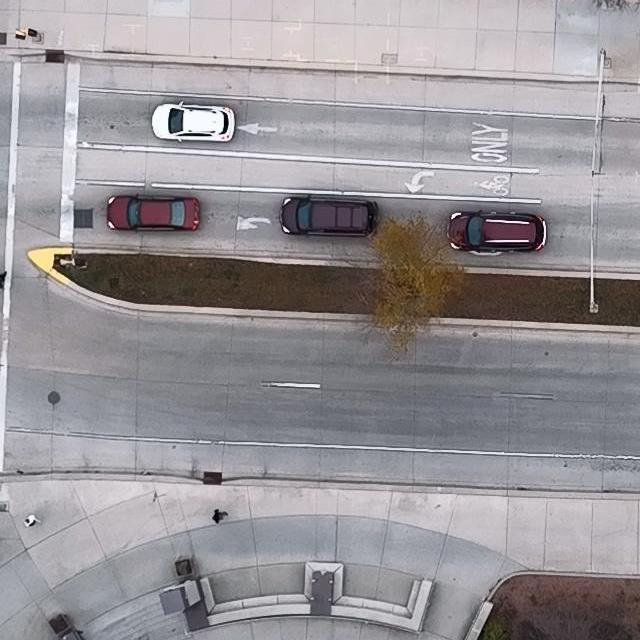car: (446, 208, 547, 254), (279, 193, 380, 237), (106, 191, 201, 234), (151, 101, 236, 144)
